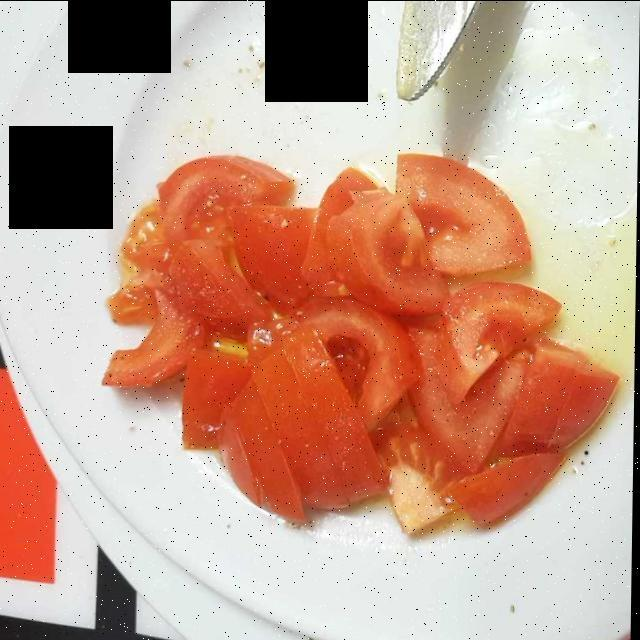tomato: (119, 156, 605, 528)
